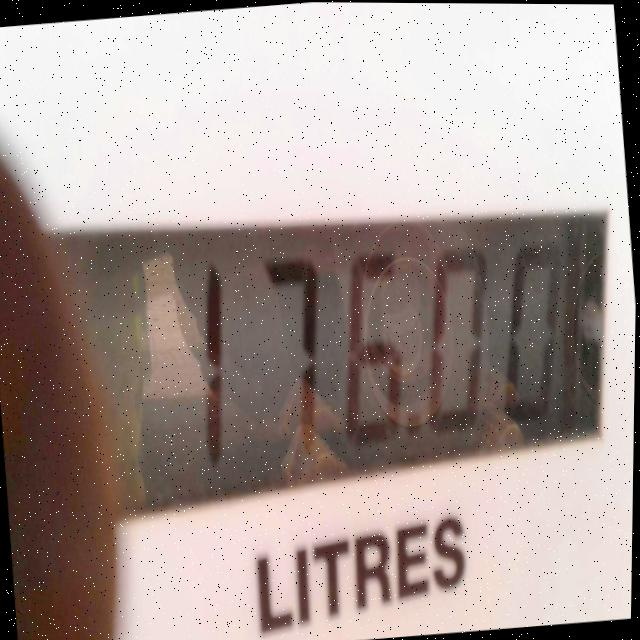.: (396, 395, 430, 451)
0: (406, 233, 514, 454), (487, 231, 579, 435)
1: (175, 241, 265, 486)
6: (320, 249, 425, 467)
7: (249, 232, 342, 475)
